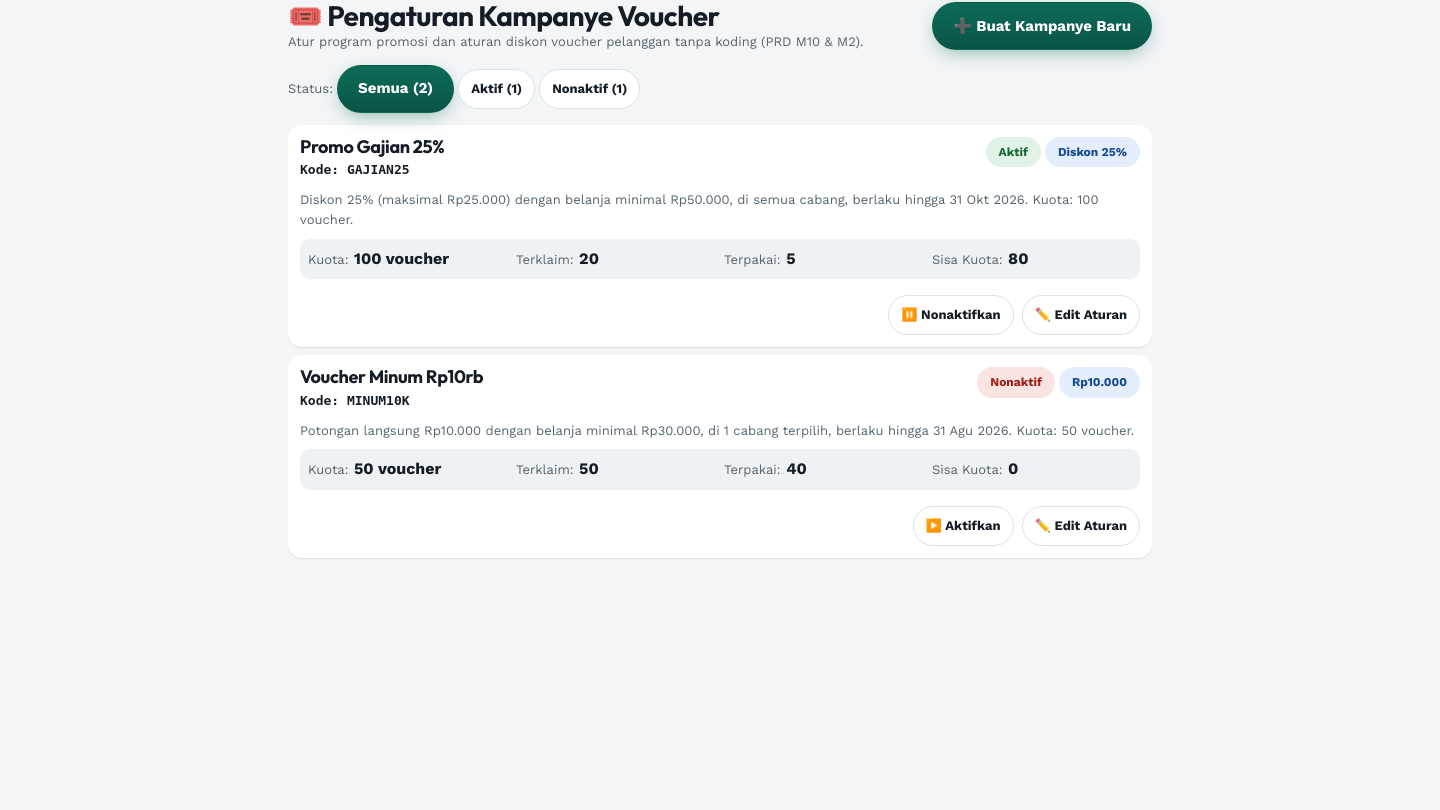
Test: Komponen Kampanye Pengaturan Admin (T8-11) › menolak aturan jika tanggal selesai promo sebelum tanggal mulai
Click the button "➕ Buat Kampanye Baru" at {"x": 1042, "y": 26}, box [932,2,1152,50]
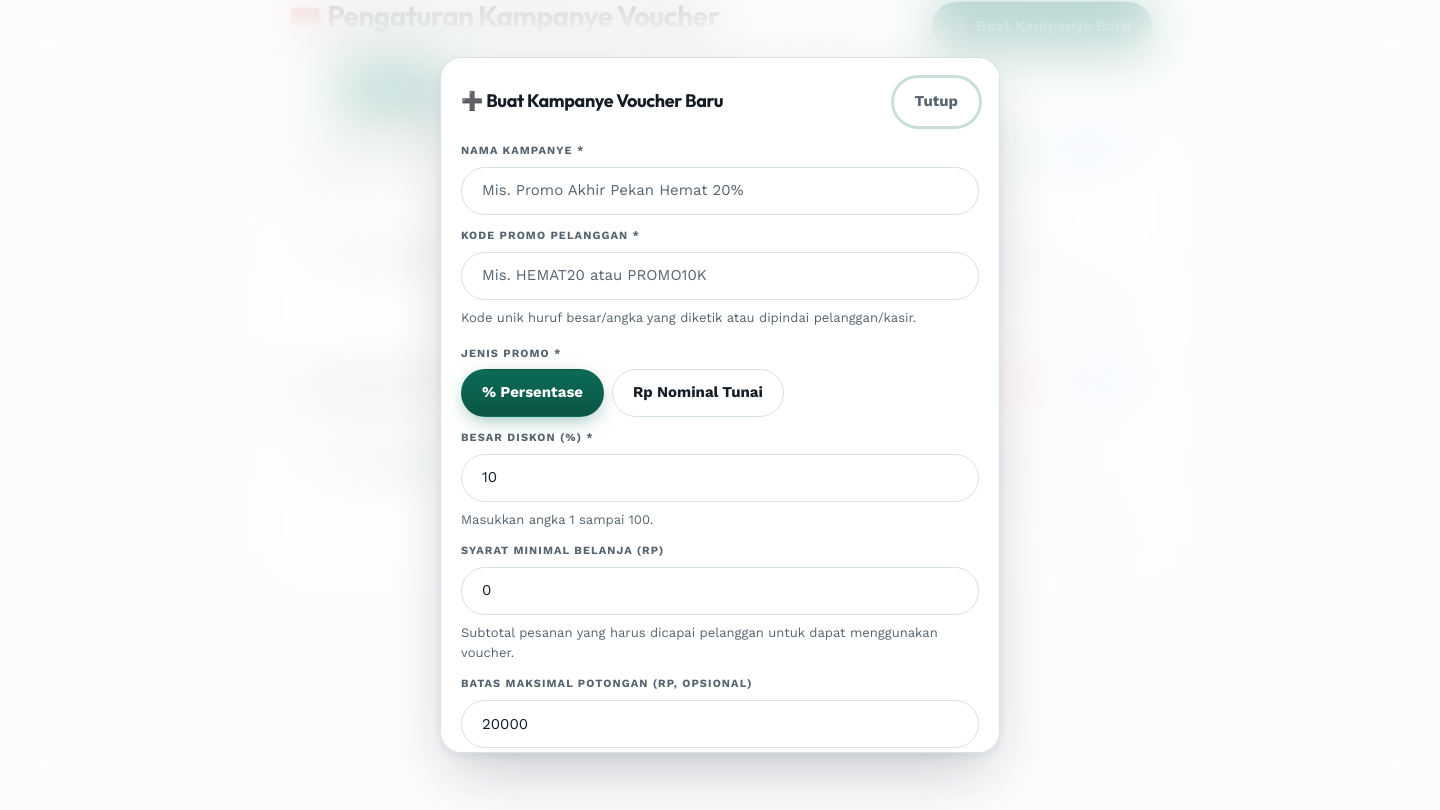
Type "Promo Mundur" into the field labelled "Nama Kampanye *" at {"x": 720, "y": 191}, box [461,167,979,215]
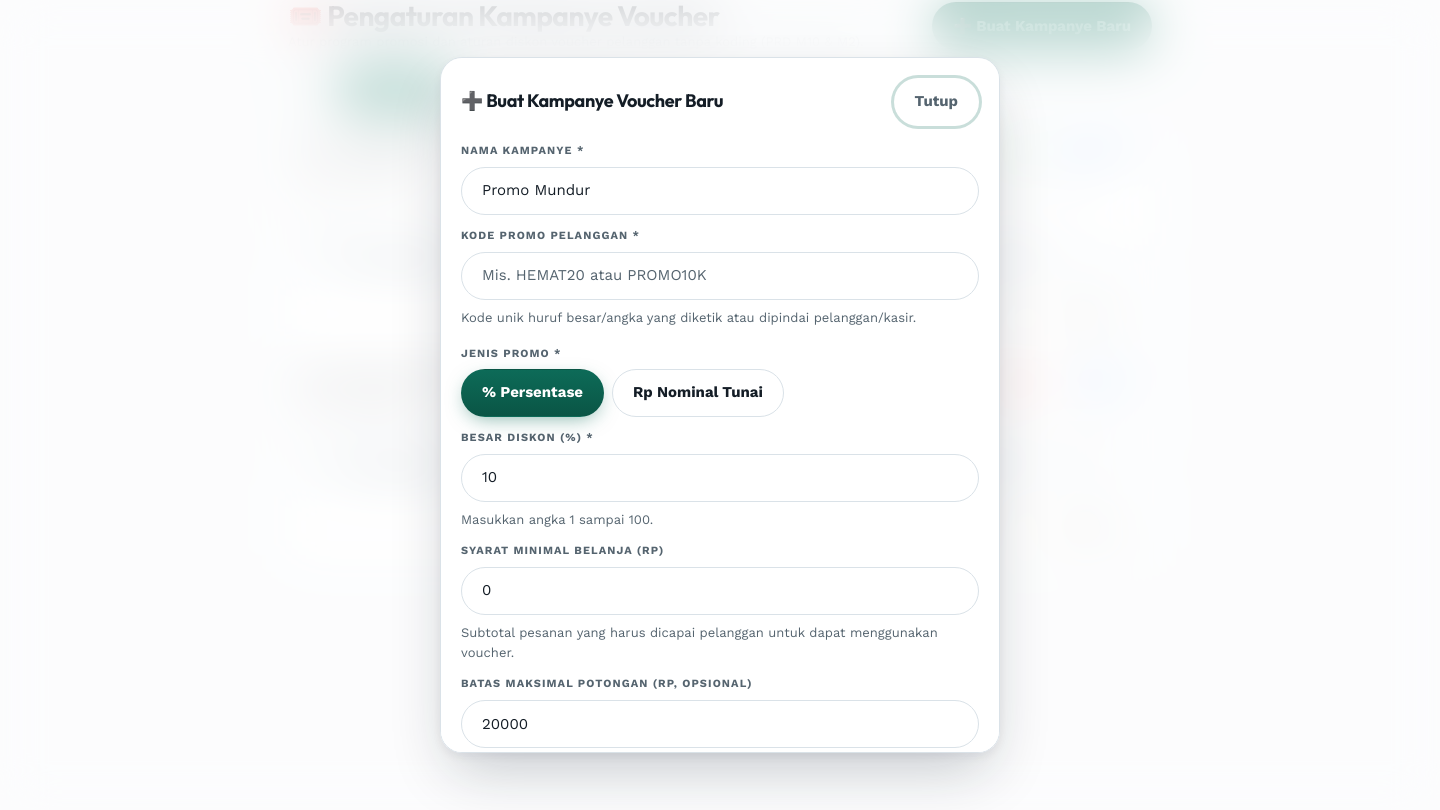
Type "MUNDUR" into the field labelled "Kode Promo Pelanggan *" at {"x": 720, "y": 276}, box [461,252,979,300]
(page scrolled)
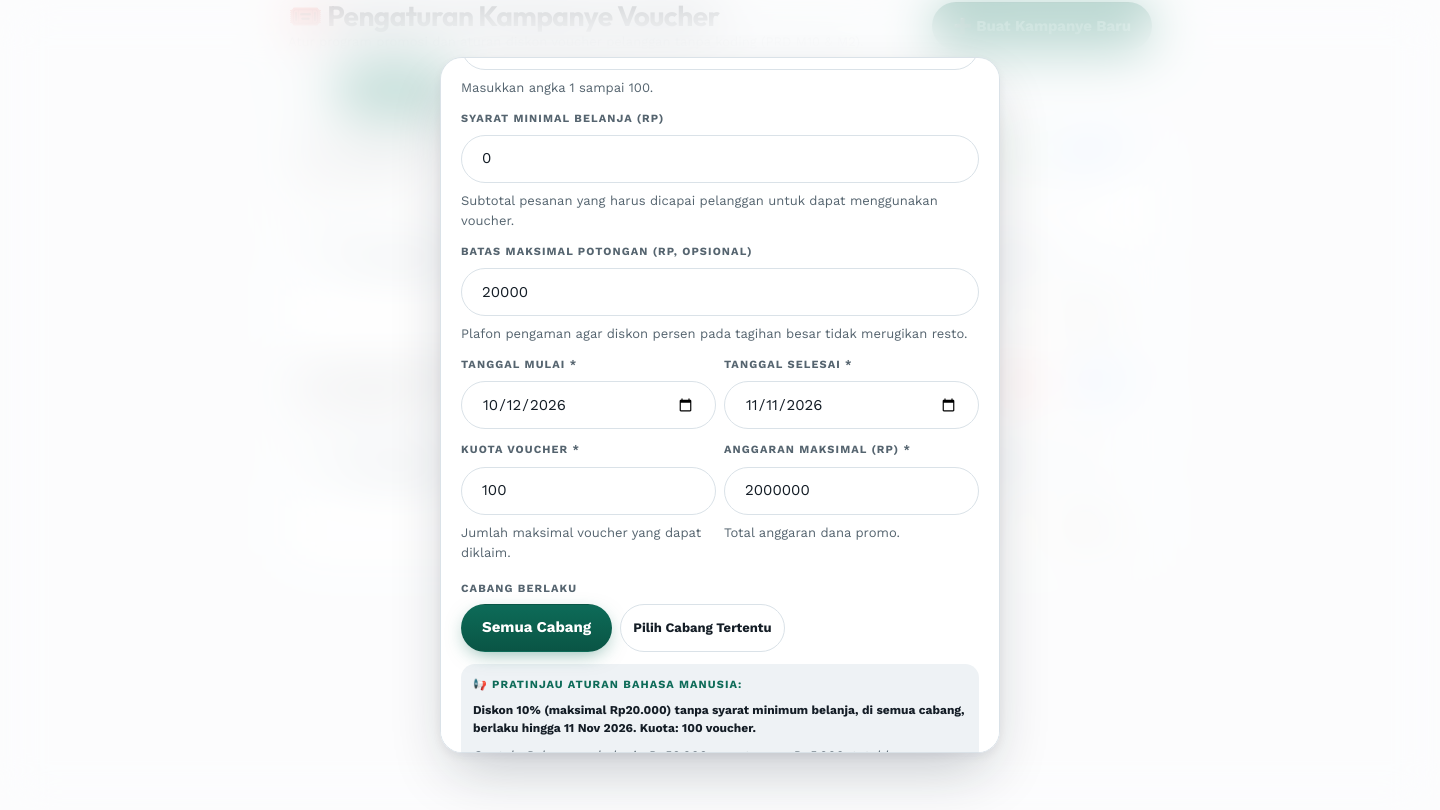
Type "2026-10-10" into the date field labelled "Tanggal Mulai *" at {"x": 588, "y": 406}, box [461,382,716,430]
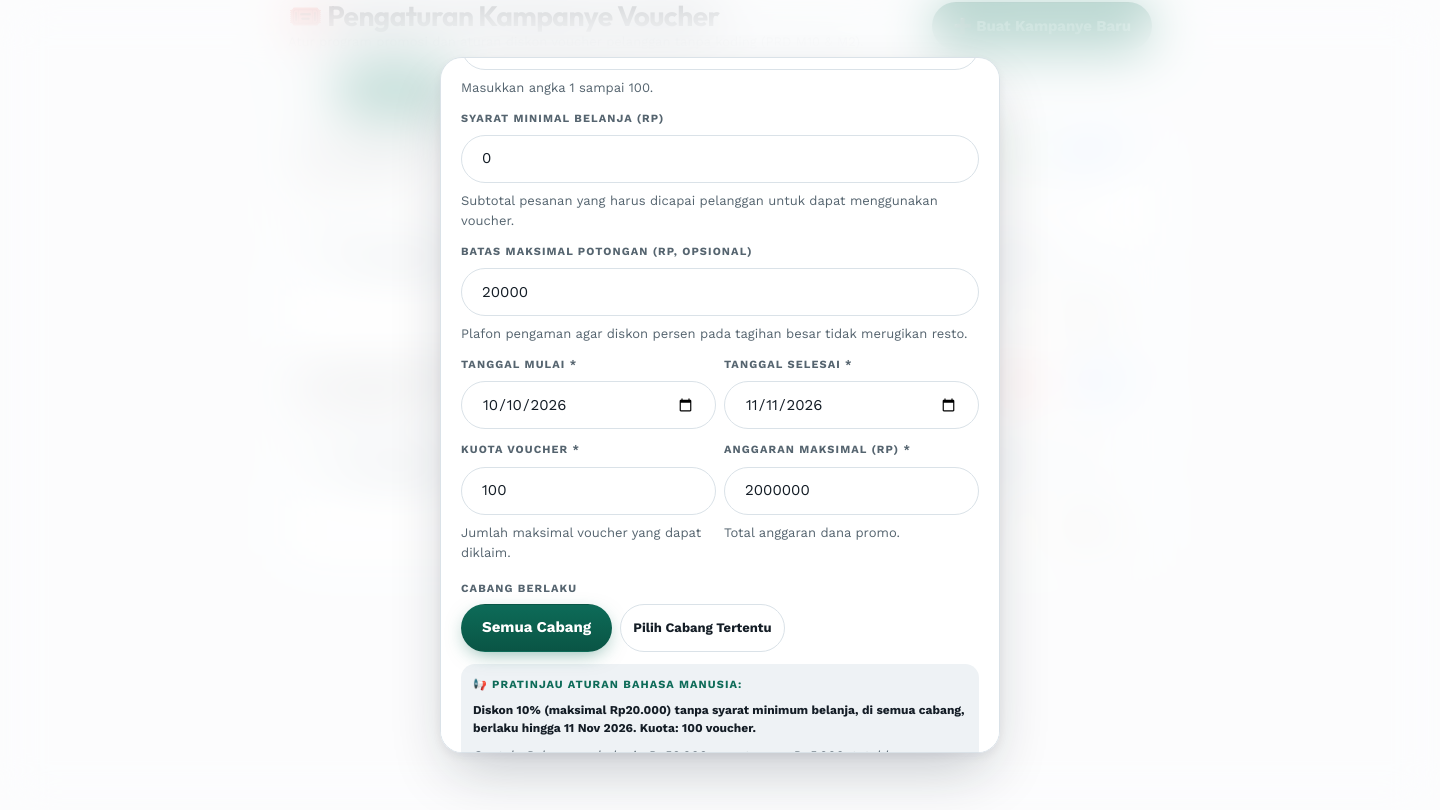
Type "2026-10-05" into the date field labelled "Tanggal Selesai *" at {"x": 852, "y": 406}, box [724,382,979,430]
(page scrolled)
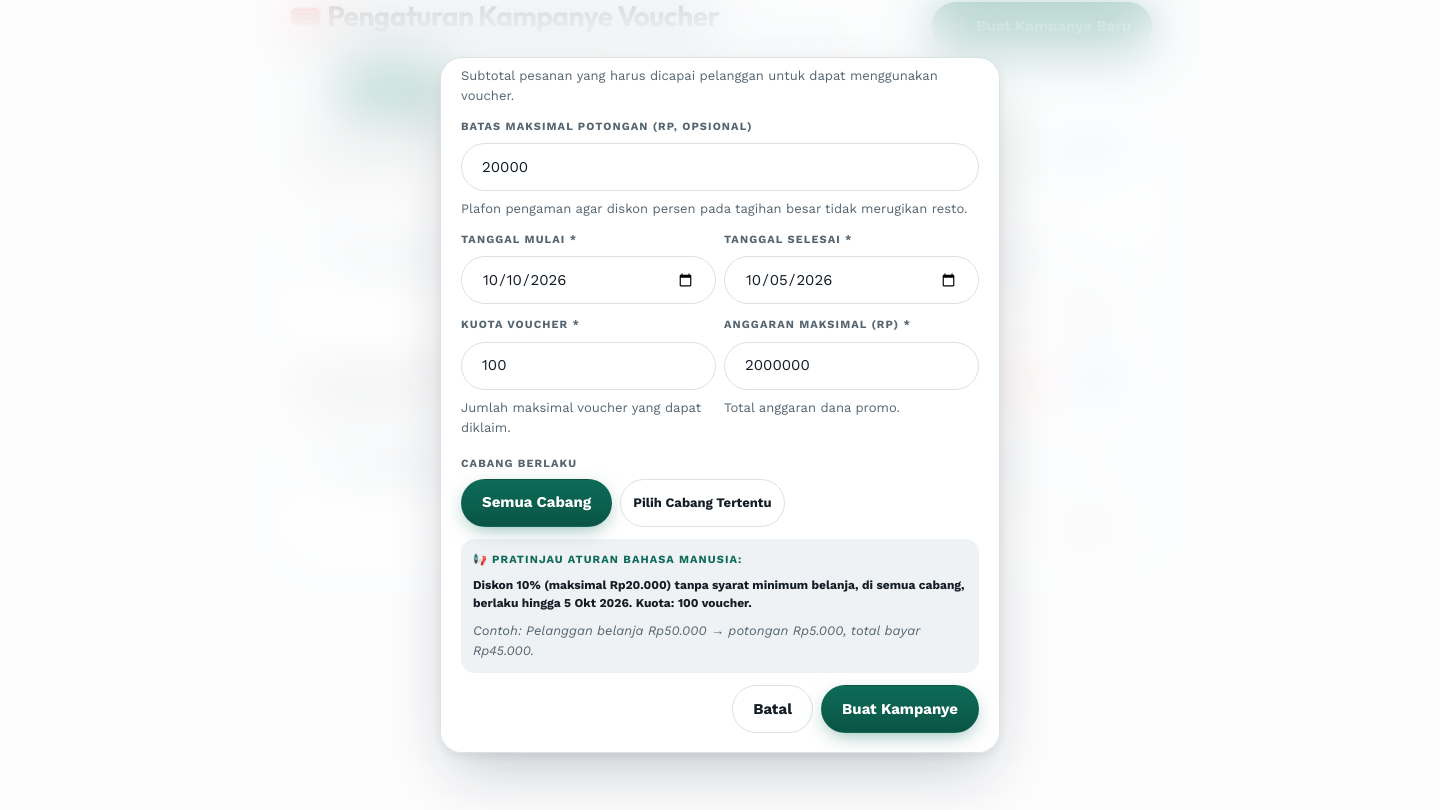
Click the button with aria-label "Simpan aturan kampanye" at {"x": 900, "y": 709}, box [821,685,979,733]
(page scrolled)
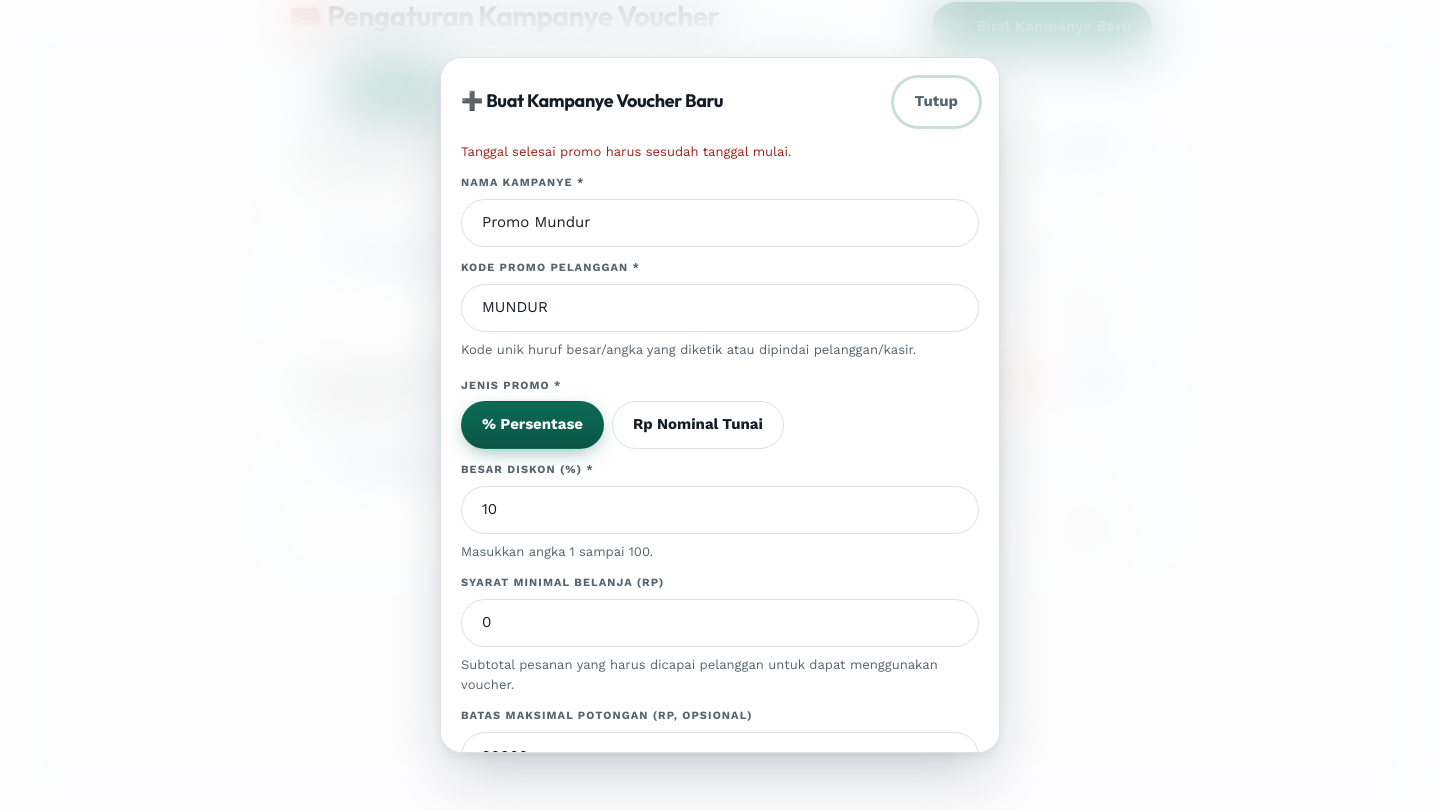
Expected: the text with test id "form-pesan-galat" shows "Tanggal selesai promo harus sesudah tanggal mulai", [461,144,791,159]
